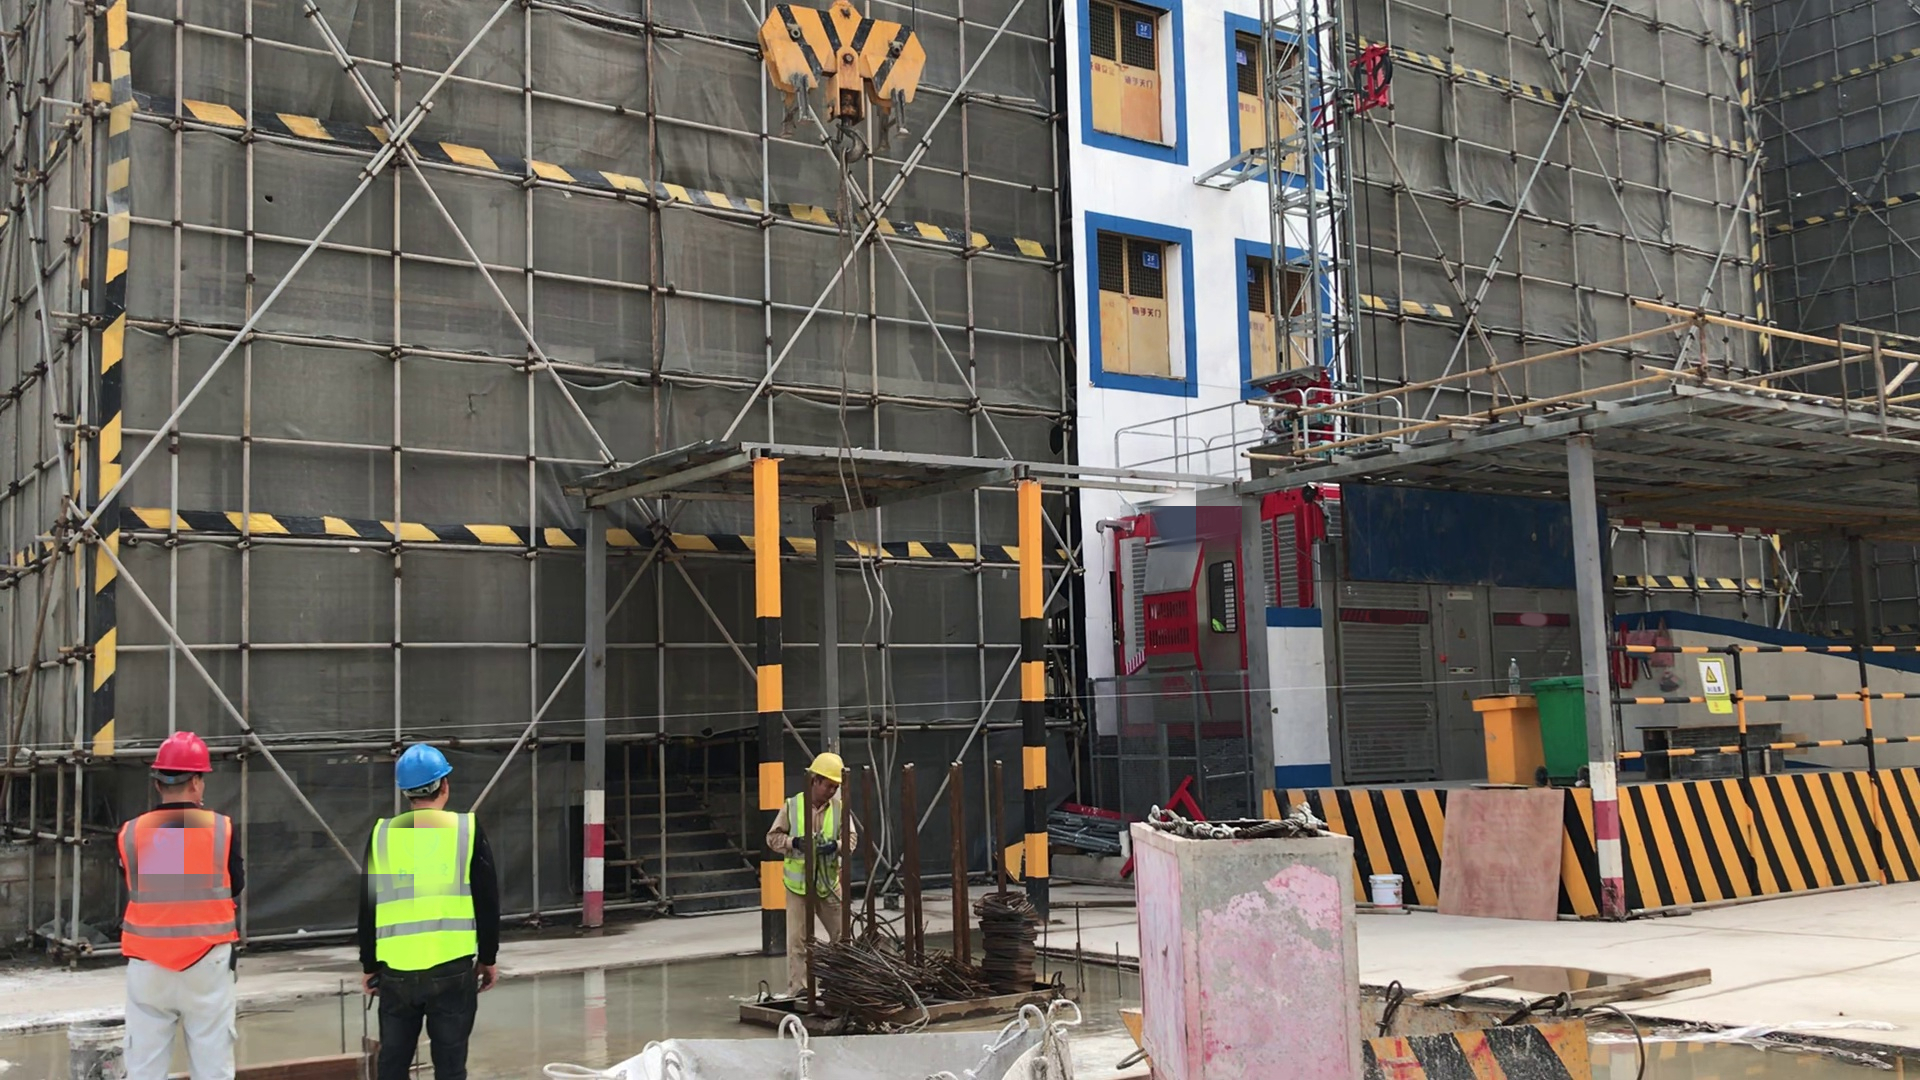ebox: (1474, 700, 1554, 795)
helmet: (395, 744, 452, 794), (150, 731, 209, 771), (804, 751, 845, 783)
hook: (755, 1, 928, 165)
hopper: (572, 1015, 1088, 1080)
person: (112, 731, 245, 1080), (359, 745, 492, 1080), (767, 753, 858, 1007)
slogan: (1700, 660, 1731, 714)
vest: (366, 816, 478, 974), (123, 814, 236, 962), (793, 800, 840, 893)
